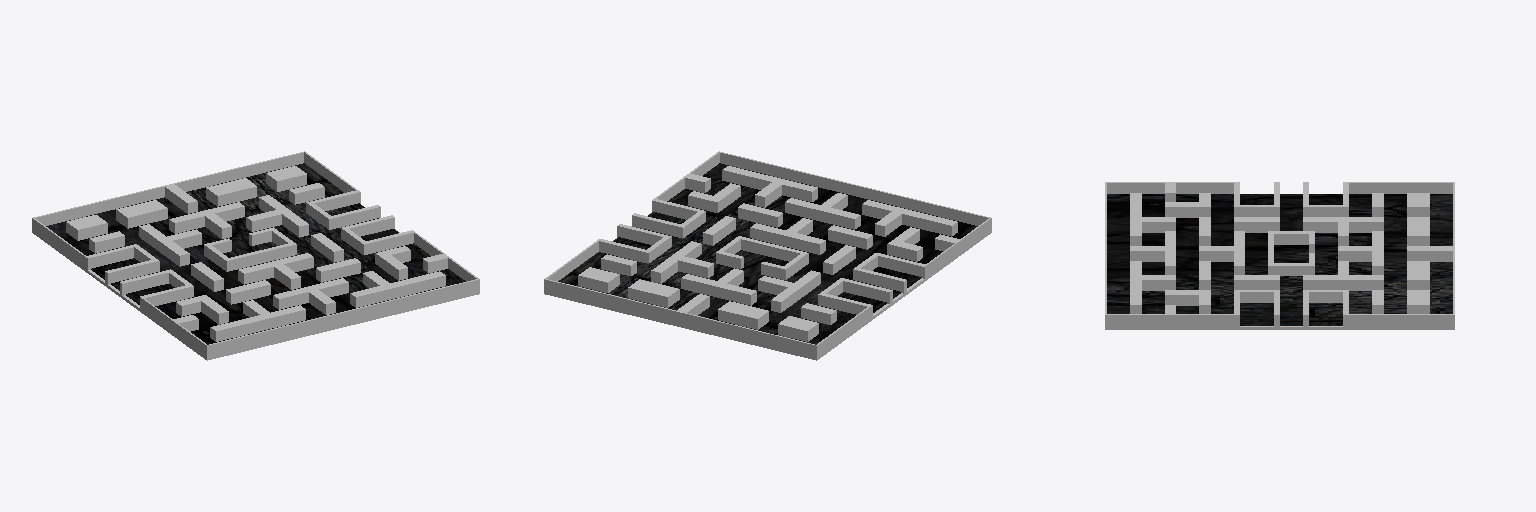
3 views of the same model, side by side, from view 1: azimuth 30°, elevation 25°; view 2: azimuth 150°, elevation 25°; view 3: azimuth 270°, elevation 25° (orthographic).
Visible parts, largest first — view 1: 1classic_arena_pacbot, Cube; view 2: 1classic_arena_pacbot, Cube; view 3: 1classic_arena_pacbot, Cube.
Boxes of the visible parts, x1,y1,x2,y2 form: 1classic_arena_pacbot: [32, 151, 479, 360]; Cube: [46, 163, 465, 344]; 1classic_arena_pacbot: [544, 151, 991, 360]; Cube: [558, 163, 977, 344]; 1classic_arena_pacbot: [1105, 182, 1454, 329]; Cube: [1107, 194, 1452, 325].
Bounding box in the file's own units: 91.73 × 4.79 × 102.
2 materials, 1 textured.